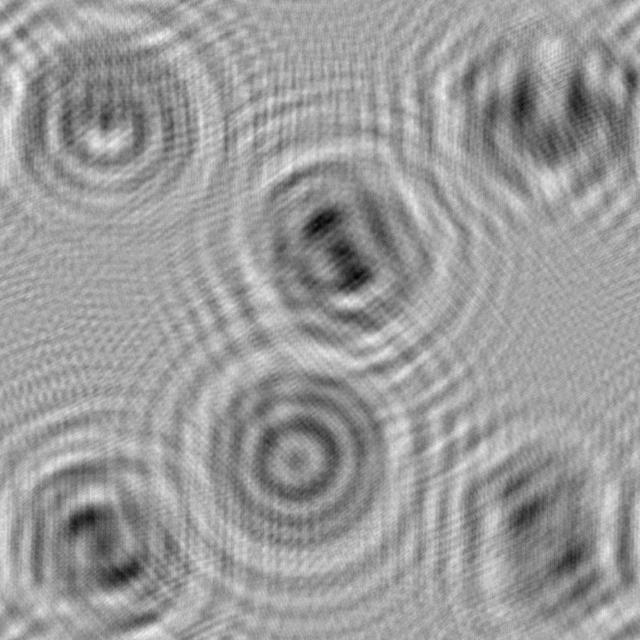B: (193, 90, 491, 399)
C: (0, 0, 244, 238)
M: (407, 0, 640, 239)
Q: (146, 296, 444, 606)
S: (0, 408, 262, 640)
Z: (403, 393, 640, 640)
